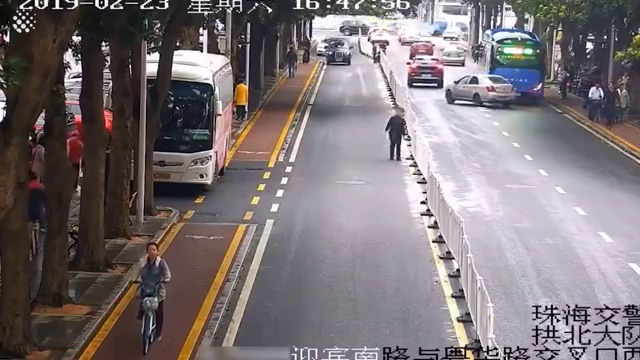face: (145, 246, 157, 258)
